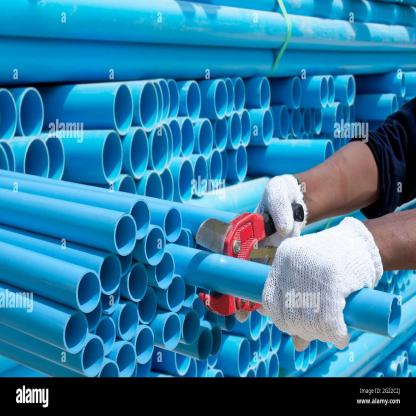PVC: (0, 1, 416, 378)
